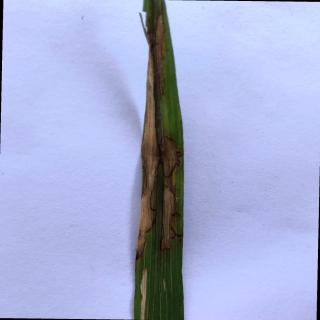Hawar-Daun: (135, 14, 166, 258), (157, 132, 180, 248), (139, 264, 150, 320)
